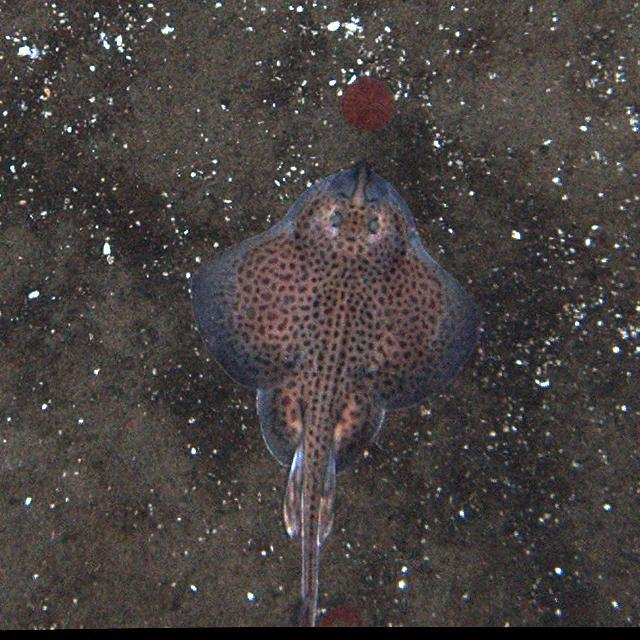skate: (177, 157, 476, 632)
